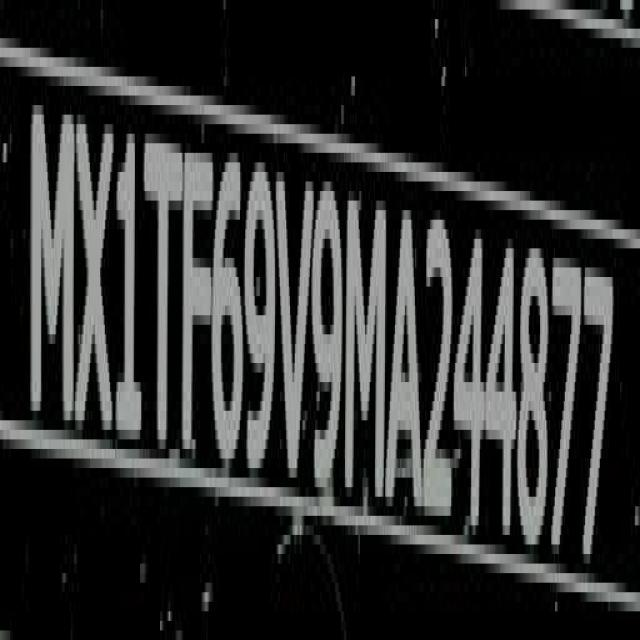1: (115, 120, 146, 446)
2: (422, 212, 453, 527)
4: (455, 230, 487, 541), (486, 241, 518, 548)
6: (209, 120, 243, 481)
7: (584, 255, 612, 580)
8: (515, 244, 549, 548), (552, 262, 581, 559)
9: (313, 173, 342, 510), (246, 162, 276, 484)
A: (386, 209, 423, 527)
F: (182, 141, 213, 460)
M: (29, 92, 76, 425), (346, 188, 386, 520)
T: (144, 124, 179, 463)
V: (276, 159, 314, 471)
X: (74, 92, 114, 446)
